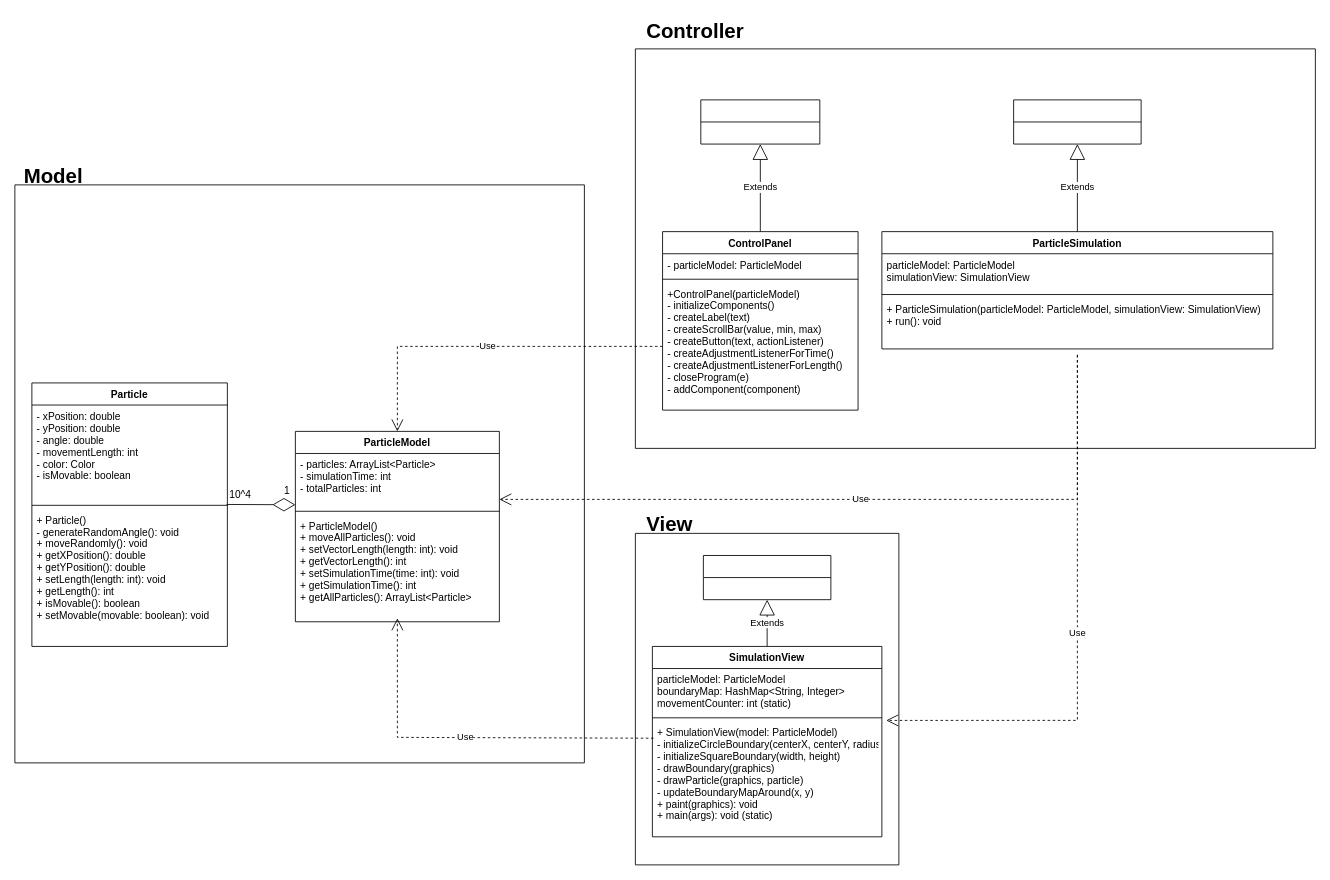
Image size: 1330x880. Some labels were removed from this diagram. The centre of each missing label's shape, as x and y in pixels:
"Canvas" goes at pixel 767 577.
"JPanel" goes at pixel 760 121.
"Thread" goes at pixel 1077 121.
